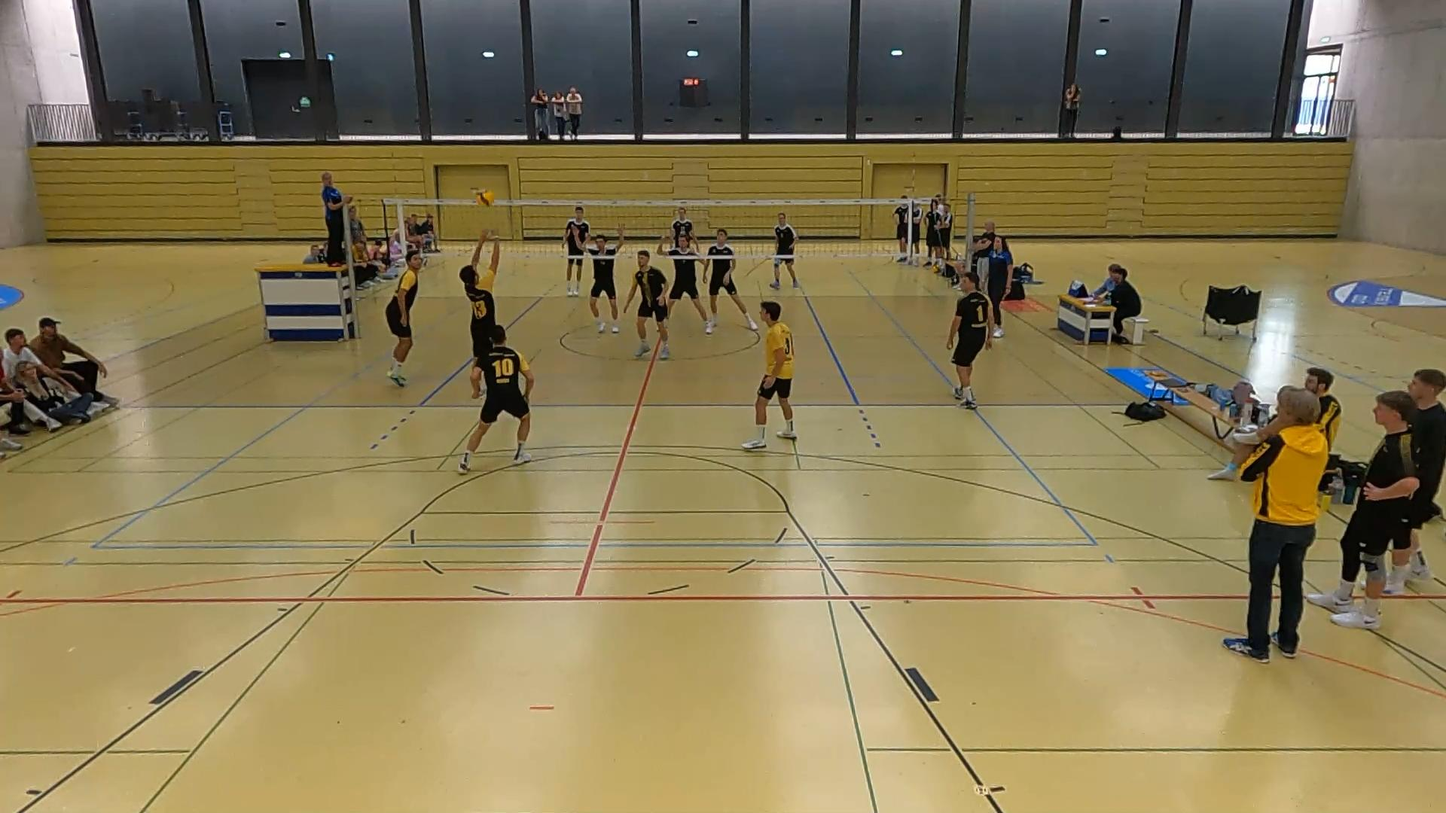Player: (459, 325, 534, 473), (742, 301, 796, 450), (946, 270, 993, 409), (704, 229, 758, 331), (659, 234, 712, 334), (624, 249, 669, 360), (385, 250, 422, 385), (588, 226, 624, 333), (564, 206, 590, 294), (770, 212, 798, 289), (671, 206, 693, 245)
Receive: (457, 221, 504, 395)
ball: (474, 187, 495, 210)
